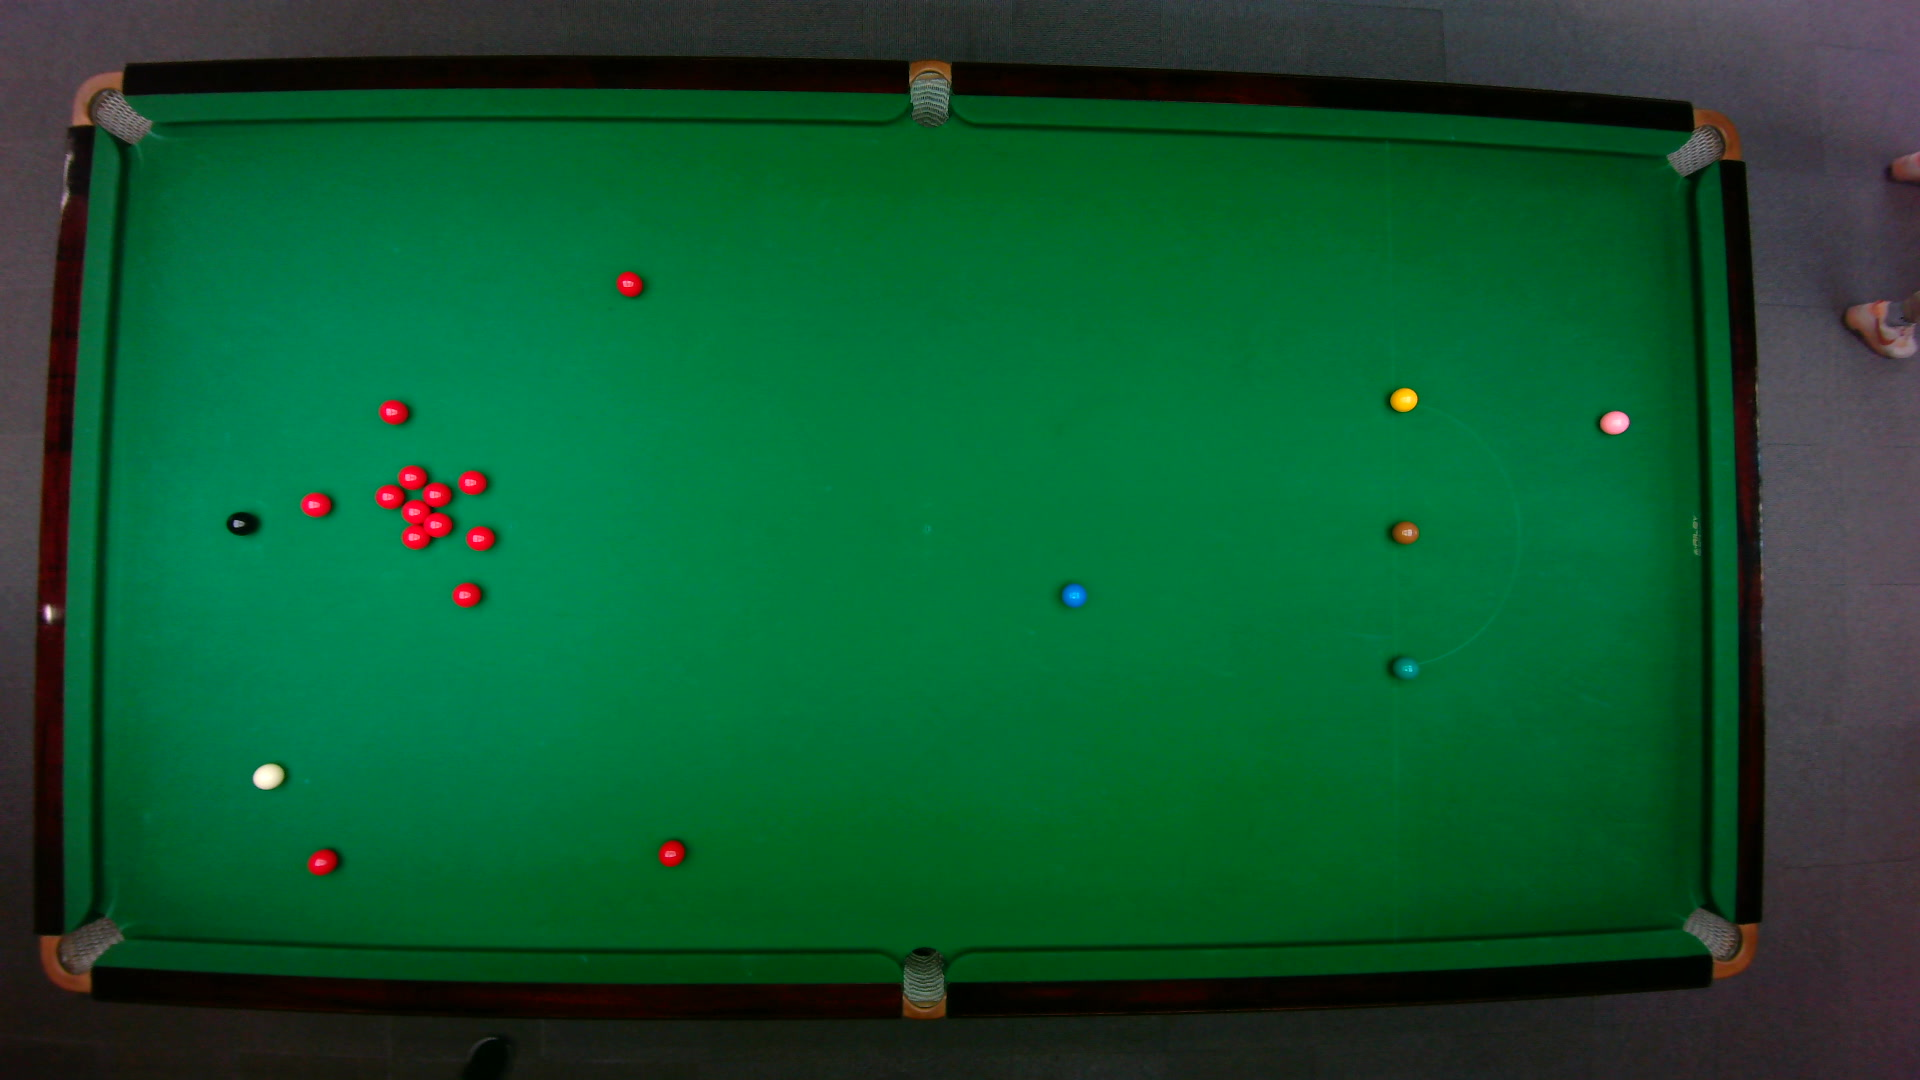bag: (38, 914, 125, 993), (69, 69, 153, 145), (1677, 905, 1756, 978), (1663, 107, 1742, 177), (901, 944, 944, 1021), (909, 57, 949, 128)
black: (223, 509, 257, 535)
blue: (1059, 580, 1087, 608)
brown: (1389, 520, 1419, 545)
green: (1390, 654, 1419, 680)
pink: (1597, 407, 1630, 434)
red: (305, 847, 338, 876), (450, 580, 483, 608), (396, 463, 429, 491), (298, 491, 332, 517), (464, 524, 496, 551), (419, 480, 452, 506), (655, 837, 684, 866), (373, 483, 406, 508), (615, 269, 644, 297), (1389, 385, 1418, 413), (422, 510, 452, 537), (377, 398, 407, 425), (456, 468, 487, 495), (400, 497, 429, 524), (400, 524, 430, 549)
white: (251, 760, 285, 790)
zone: (1389, 401, 1520, 666)
